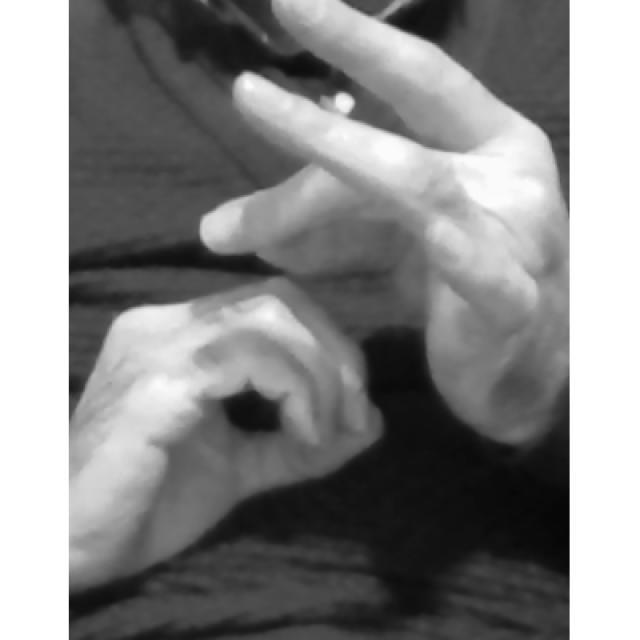O--: (70, 0, 567, 587)
